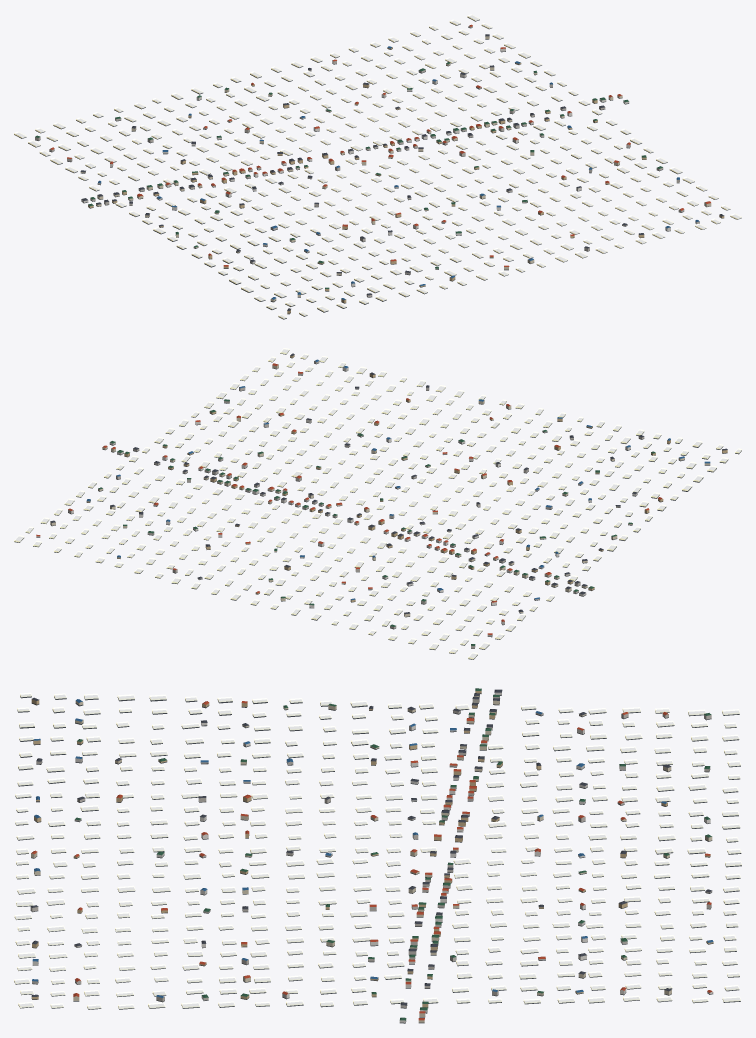
File: buildings_T_E02_N00.glb
3 renders of one model, top to bottom at view 1: azimuth 30°, elevation 25°; view 2: azimuth 150°, elevation 25°; view 3: azimuth 270°, elevation 25°, orthographic. The views are drawn at different scales.
Parts seen in each view (by area): view 1: T_E02_N00_roofs_agri_greenhouse_arch, T_E02_N00_slope_seating_foundations, T_E02_N00_walls_wall_french_ochre_villa, T_E02_N00_walls_wall_pastel_sand_gray, T_E02_N00_roofs_roof_slate_French_villa_hip, T_E02_N00_walls_wall_dalat_cream_stucco, T_E02_N00_walls_wall_modern_warm_white, T_E02_N00_roofs_roof_terracotta_gable, T_E02_N00_roofs_roof_pine_green_hip; view 2: T_E02_N00_roofs_agri_greenhouse_arch, T_E02_N00_slope_seating_foundations, T_E02_N00_walls_wall_french_ochre_villa, T_E02_N00_walls_wall_pastel_sand_gray, T_E02_N00_walls_wall_dalat_cream_stucco, T_E02_N00_roofs_roof_slate_French_villa_hip, T_E02_N00_walls_wall_modern_warm_white, T_E02_N00_roofs_roof_terracotta_gable, T_E02_N00_roofs_roof_pine_green_hip; view 3: T_E02_N00_roofs_agri_greenhouse_arch, T_E02_N00_slope_seating_foundations, T_E02_N00_walls_wall_pastel_sand_gray, T_E02_N00_roofs_roof_slate_French_villa_hip, T_E02_N00_walls_wall_french_ochre_villa, T_E02_N00_walls_wall_dalat_cream_stucco, T_E02_N00_roofs_roof_terracotta_gable, T_E02_N00_roofs_roof_pine_green_hip, T_E02_N00_walls_wall_modern_warm_white, T_E02_N00_roofs_roof_highland_blue_gable.
Part boxes in pixels (bbox=[...]): T_E02_N00_roofs_agri_greenhouse_arch: bbox=[14, 14, 741, 318]; T_E02_N00_slope_seating_foundations: bbox=[14, 16, 741, 319]; T_E02_N00_walls_wall_french_ochre_villa: bbox=[88, 47, 724, 313]; T_E02_N00_walls_wall_pastel_sand_gray: bbox=[35, 60, 699, 297]; T_E02_N00_roofs_roof_slate_French_villa_hip: bbox=[80, 34, 724, 310]; T_E02_N00_walls_wall_dalat_cream_stucco: bbox=[80, 36, 711, 301]; T_E02_N00_walls_wall_modern_warm_white: bbox=[81, 26, 670, 286]; T_E02_N00_roofs_roof_terracotta_gable: bbox=[50, 24, 710, 266]; T_E02_N00_roofs_roof_pine_green_hip: bbox=[35, 62, 662, 288]; T_E02_N00_roofs_agri_greenhouse_arch: bbox=[14, 348, 741, 659]; T_E02_N00_slope_seating_foundations: bbox=[14, 350, 741, 659]; T_E02_N00_walls_wall_french_ochre_villa: bbox=[86, 355, 727, 601]; T_E02_N00_walls_wall_pastel_sand_gray: bbox=[116, 361, 644, 648]; T_E02_N00_walls_wall_dalat_cream_stucco: bbox=[50, 364, 710, 616]; T_E02_N00_roofs_roof_slate_French_villa_hip: bbox=[50, 353, 727, 614]; T_E02_N00_walls_wall_modern_warm_white: bbox=[36, 367, 637, 607]; T_E02_N00_roofs_roof_terracotta_gable: bbox=[36, 363, 662, 634]; T_E02_N00_roofs_roof_pine_green_hip: bbox=[98, 399, 655, 645]; T_E02_N00_roofs_agri_greenhouse_arch: bbox=[14, 692, 741, 1009]; T_E02_N00_slope_seating_foundations: bbox=[14, 693, 741, 1023]; T_E02_N00_walls_wall_pastel_sand_gray: bbox=[30, 696, 712, 1007]; T_E02_N00_roofs_roof_slate_French_villa_hip: bbox=[31, 689, 712, 1005]; T_E02_N00_walls_wall_french_ochre_villa: bbox=[31, 691, 713, 1007]; T_E02_N00_walls_wall_dalat_cream_stucco: bbox=[31, 695, 712, 1022]; T_E02_N00_roofs_roof_terracotta_gable: bbox=[31, 701, 712, 1020]; T_E02_N00_roofs_roof_pine_green_hip: bbox=[75, 688, 711, 1020]; T_E02_N00_walls_wall_modern_warm_white: bbox=[32, 692, 713, 1022]; T_E02_N00_roofs_roof_highland_blue_gable: bbox=[32, 699, 713, 997].
Size of the model in its own units: 1920 by 55.85 by 1771.
